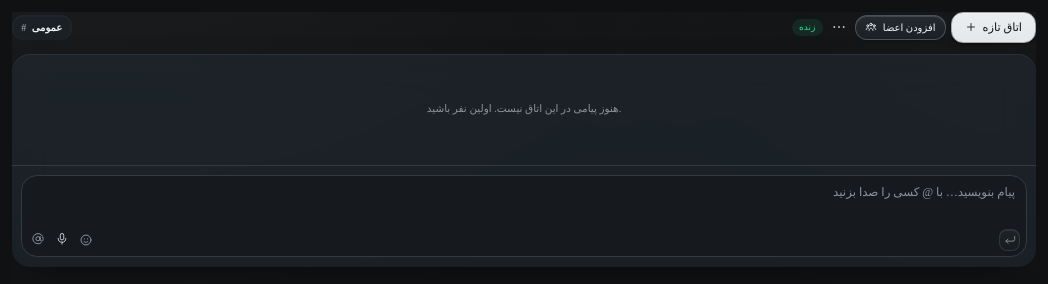
Test: the composer › the @ BUTTON opens the picker, not just a character in the box
Expected: the text box with placeholder "پیام بنویسید… با @ کسی را صدا بزنید" is enabled, top-left (22, 176), bottom-right (1026, 222)
Click the button named "صدا زدن کسی" at (38, 239), box top-left (28, 228), bottom-right (49, 250)
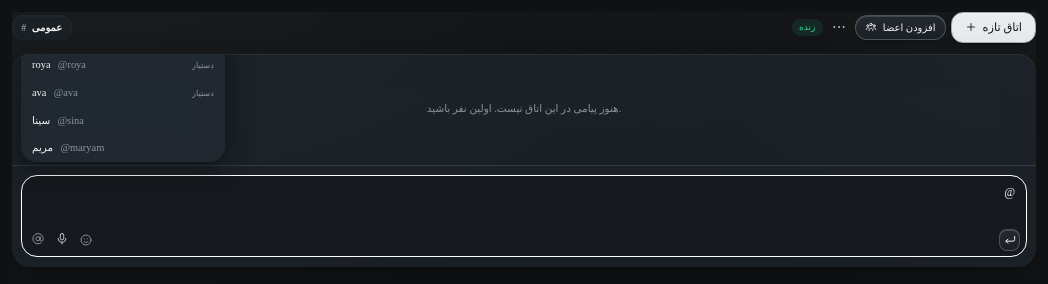
Expected: the text "@roya" is shown, top-left (58, 57), bottom-right (86, 74)
Expected: the text "@maryam" is shown, top-left (60, 140), bottom-right (104, 157)
Expected: the text box with placeholder "پیام بنویسید… با @ کسی را صدا بزنید" holds "@", top-left (22, 176), bottom-right (1026, 222)
